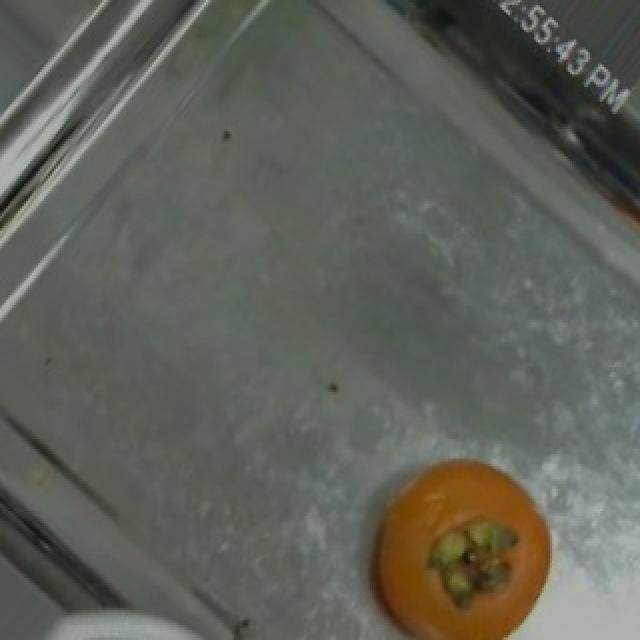Fruit: (346, 439, 572, 638)
